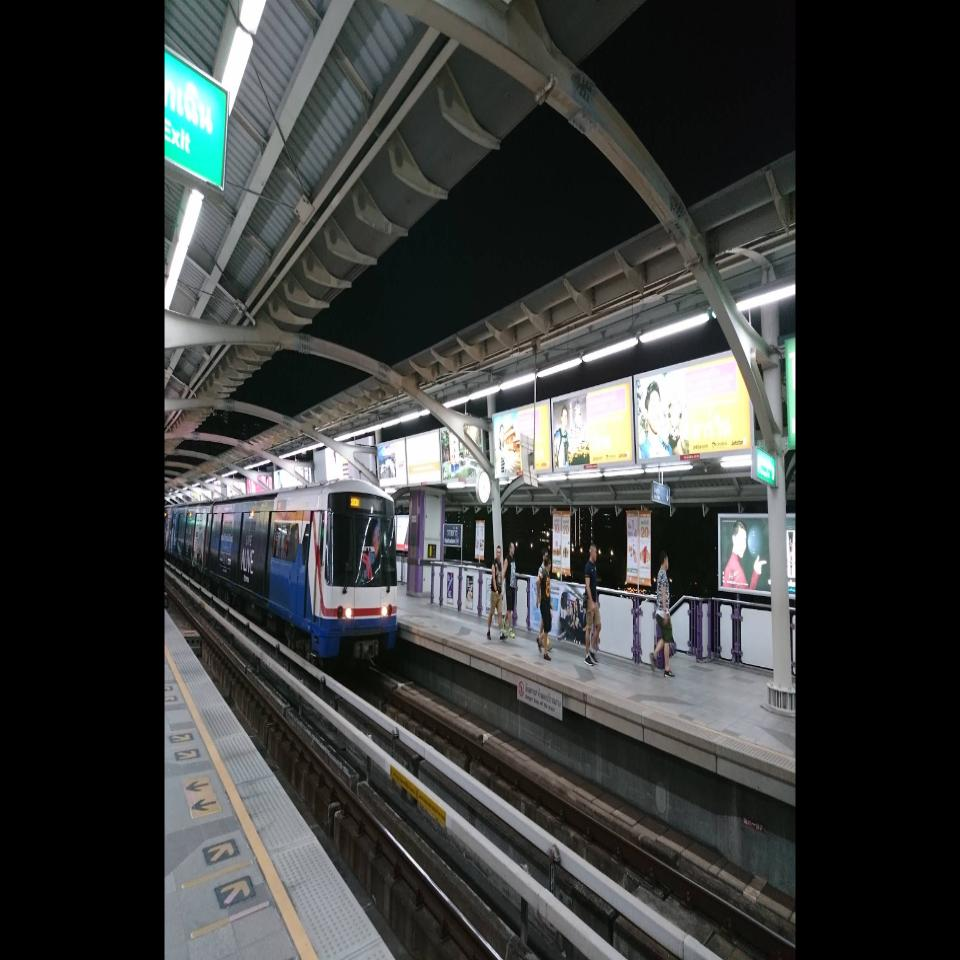signage: (443, 522, 462, 546)
